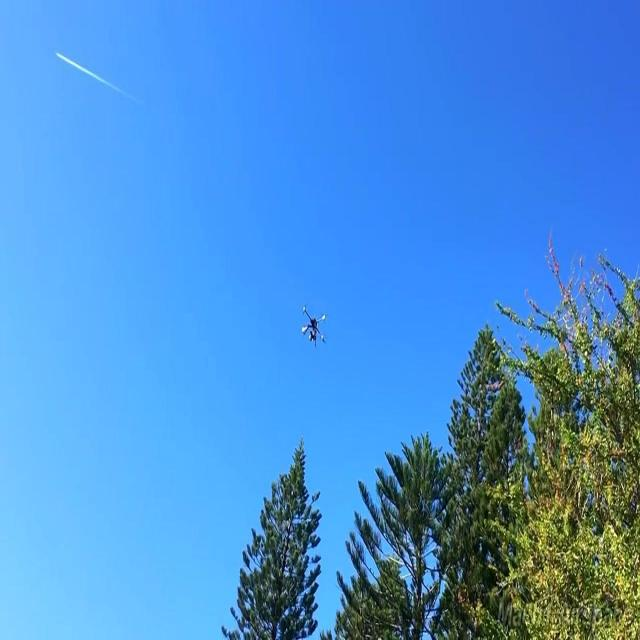UAV: (302, 305, 326, 347)
